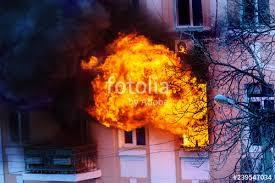fire: (81, 24, 209, 149)
